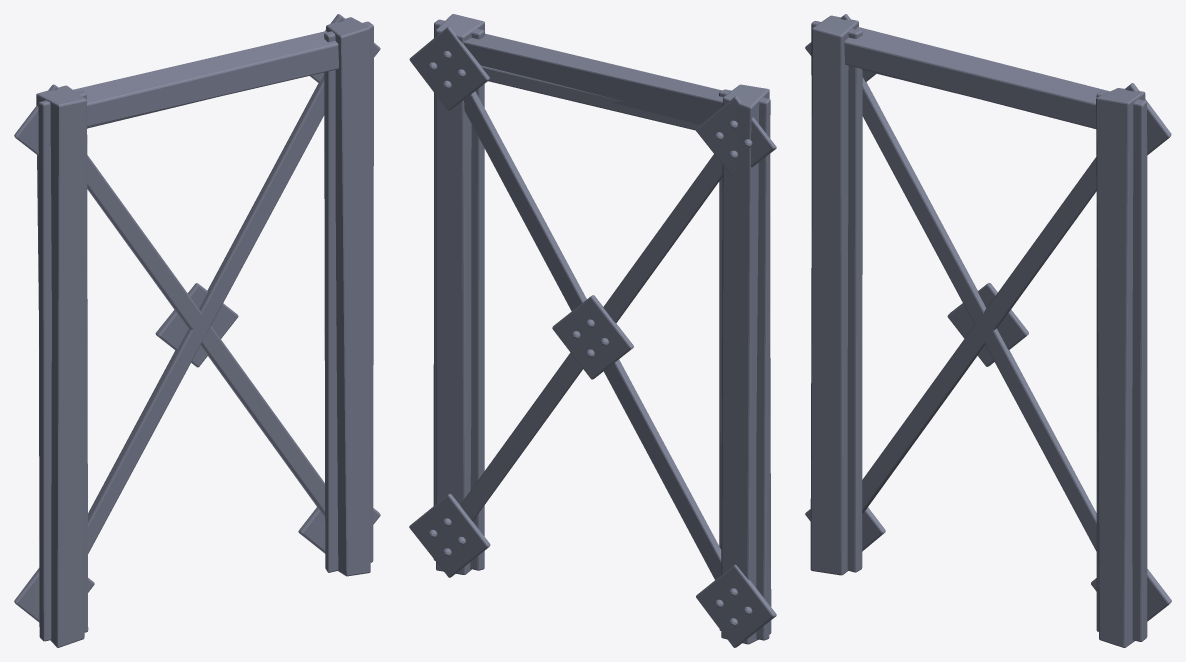
Rendered from truss_bay.glb.
3 views of the same model, side by side, from view 1: azimuth 30°, elevation 25°; view 2: azimuth 150°, elevation 25°; view 3: azimuth 330°, elevation 25° (orthographic).
Visible parts, largest first — view 1: truss; view 2: truss; view 3: truss.
Boxes of the visible parts, <box> form: truss: <box>14,14,380,647</box>; truss: <box>409,14,776,647</box>; truss: <box>805,14,1171,647</box>.
Size of the model in its own units: 1.28 by 1.84 by 0.1498.
